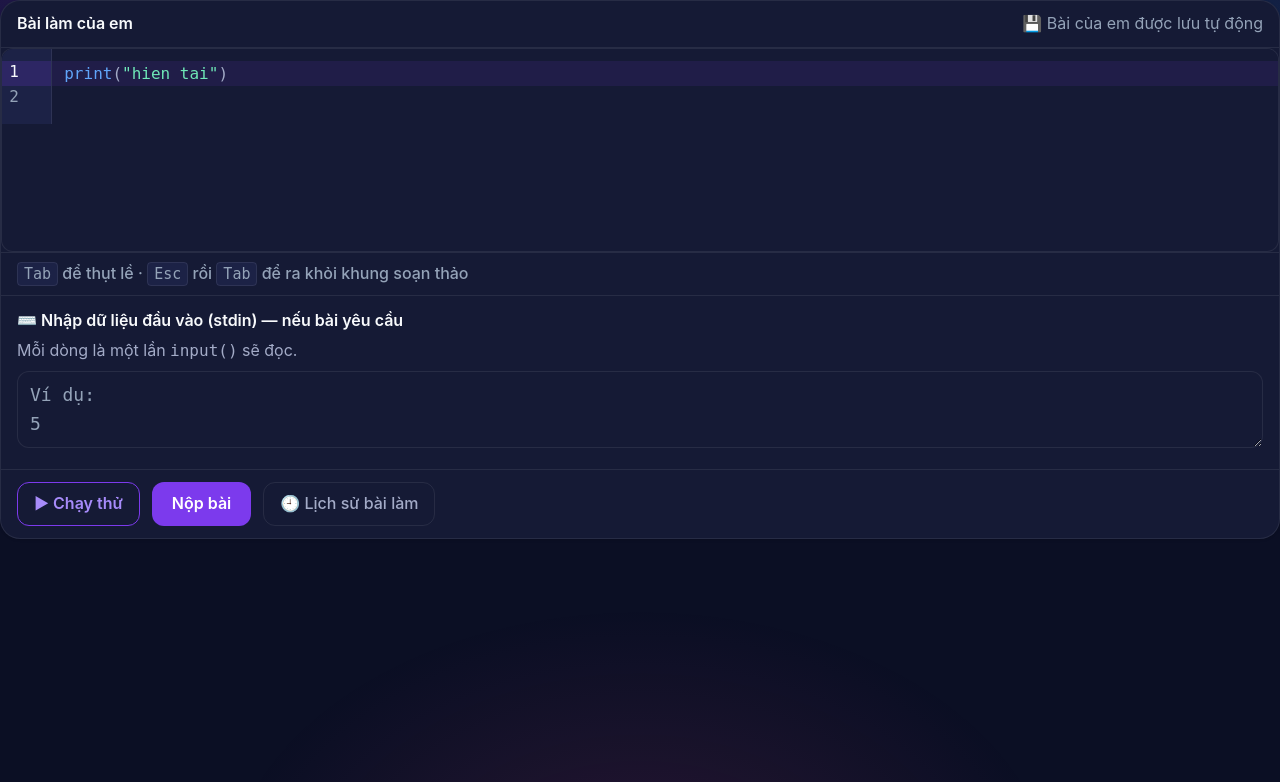
Test: Khu làm bài › so sánh bản cũ với bài đang làm
The width and height of the screenshot is (1280, 782).
Click the button "🕘 Lịch sử bài làm" at [349, 504], box left=263, top=482, right=436, bottom=526
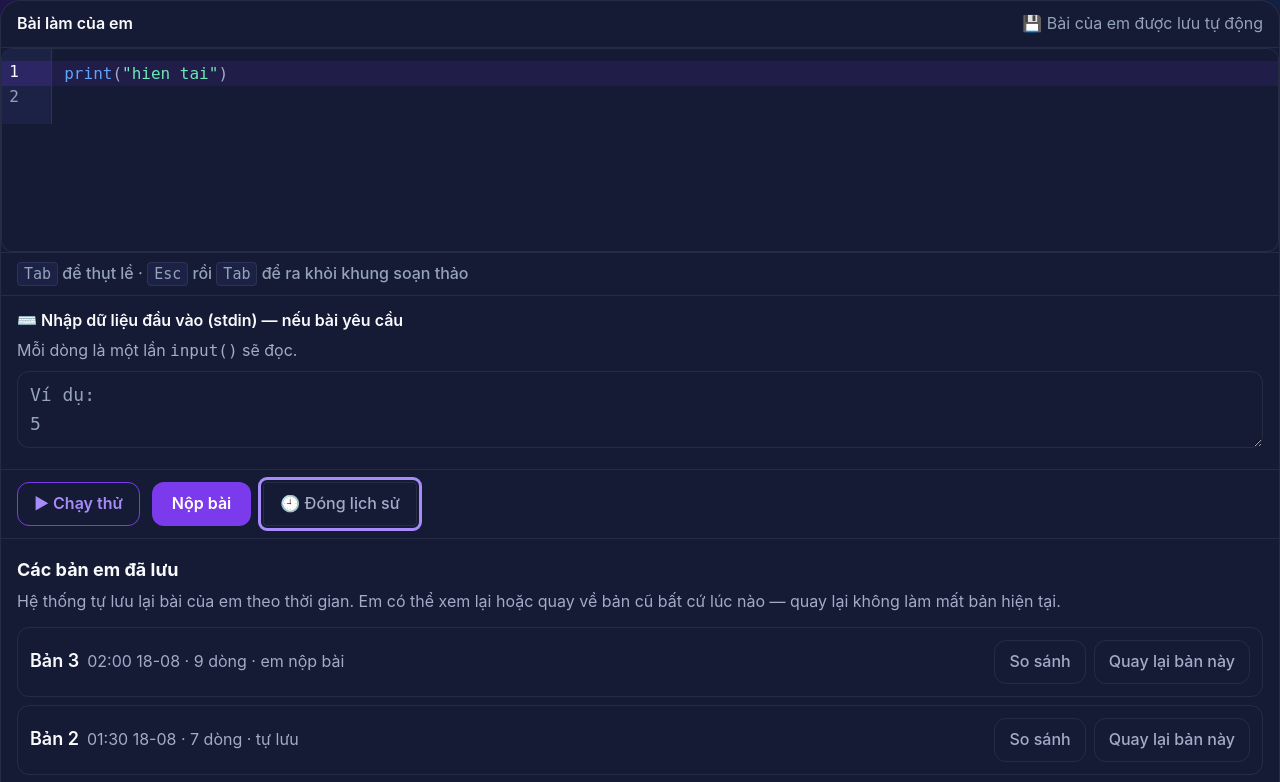
Click the button "So sánh" in the row of "em nộp bài" at [1040, 662], box left=994, top=640, right=1086, bottom=684
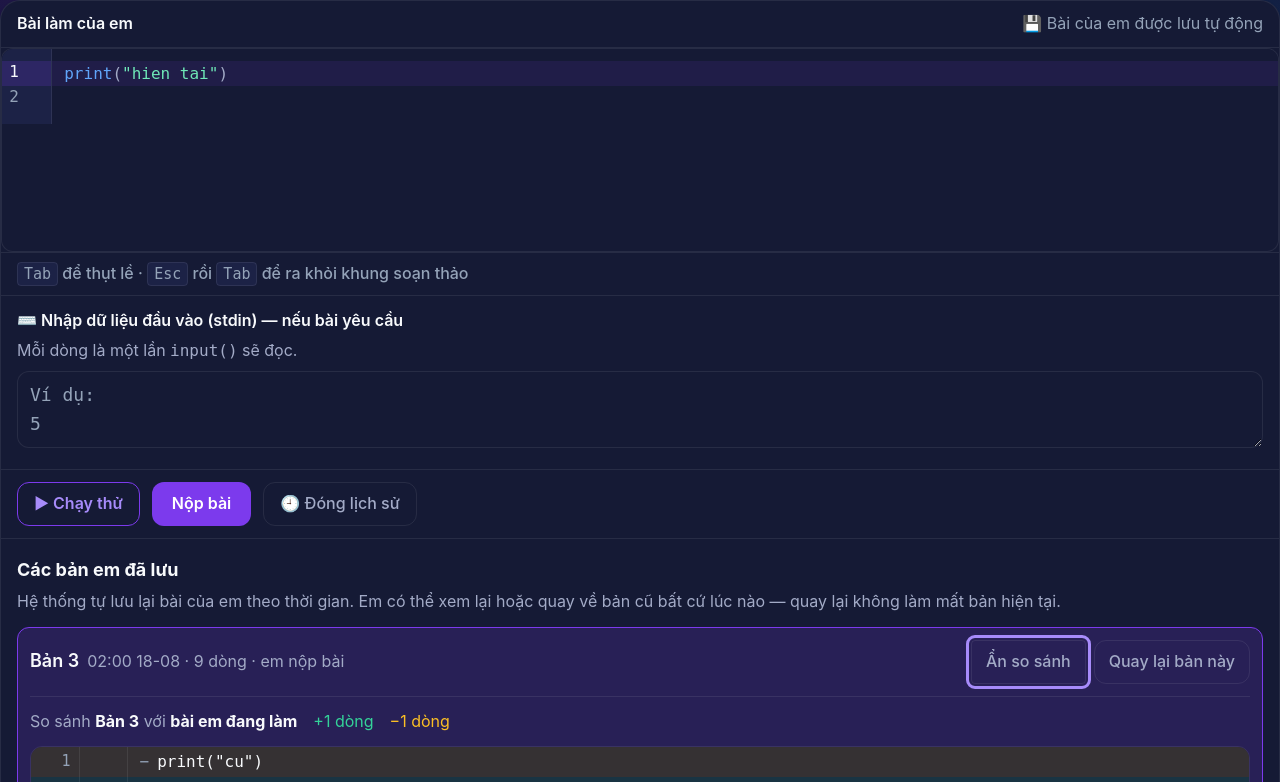
Expected: the text "+1 dòng" is shown, left=313, top=708, right=374, bottom=734
Expected: the text "−1 dòng" is shown, left=390, top=708, right=450, bottom=734
